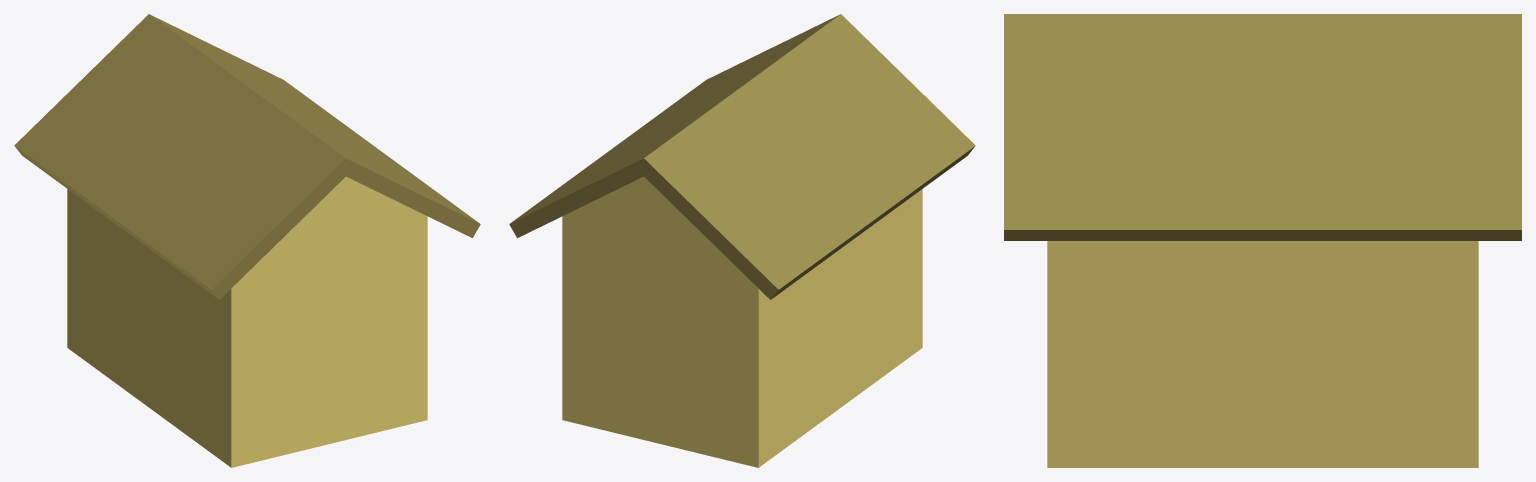
File: result.glb
3 views of the same model, side by side, from view 1: azimuth 30°, elevation 25°; view 2: azimuth 150°, elevation 25°; view 3: azimuth 270°, elevation 25° (orthographic). The views are drawn at different scales.
Visible parts, largest first — view 1: f64123c4-c21f-4956-a130-4b9d9e1aa32f__undefined, c483c76f-61e5-4ec7-befa-ca07781438c0__undefined (×2); view 2: f64123c4-c21f-4956-a130-4b9d9e1aa32f__undefined, c483c76f-61e5-4ec7-befa-ca07781438c0__undefined (×2); view 3: c483c76f-61e5-4ec7-befa-ca07781438c0__undefined, f64123c4-c21f-4956-a130-4b9d9e1aa32f__undefined.
Part boxes in pixels (bbox=[...]): f64123c4-c21f-4956-a130-4b9d9e1aa32f__undefined: bbox=[67, 176, 427, 467]; c483c76f-61e5-4ec7-befa-ca07781438c0__undefined (×2): bbox=[14, 14, 480, 299]; f64123c4-c21f-4956-a130-4b9d9e1aa32f__undefined: bbox=[562, 176, 922, 467]; c483c76f-61e5-4ec7-befa-ca07781438c0__undefined (×2): bbox=[509, 14, 975, 299]; c483c76f-61e5-4ec7-befa-ca07781438c0__undefined: bbox=[1004, 14, 1521, 240]; f64123c4-c21f-4956-a130-4b9d9e1aa32f__undefined: bbox=[1047, 241, 1478, 467].
Size of the model in its own units: 474 by 500 by 600.
